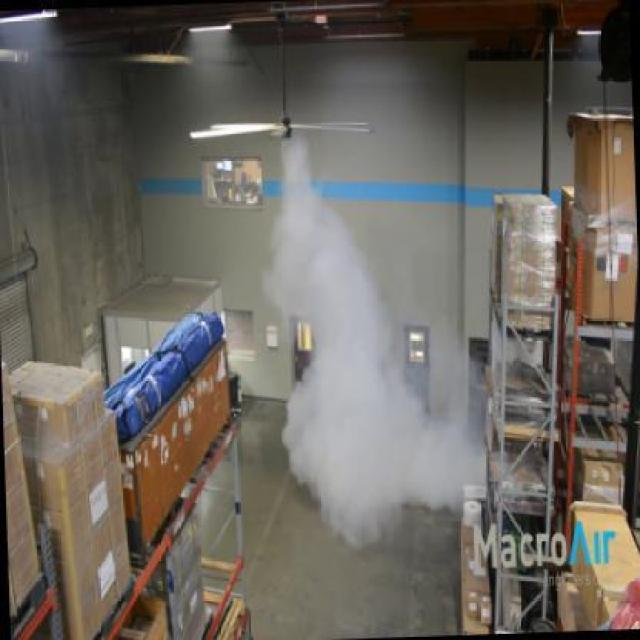fire: (258, 138, 460, 550)
